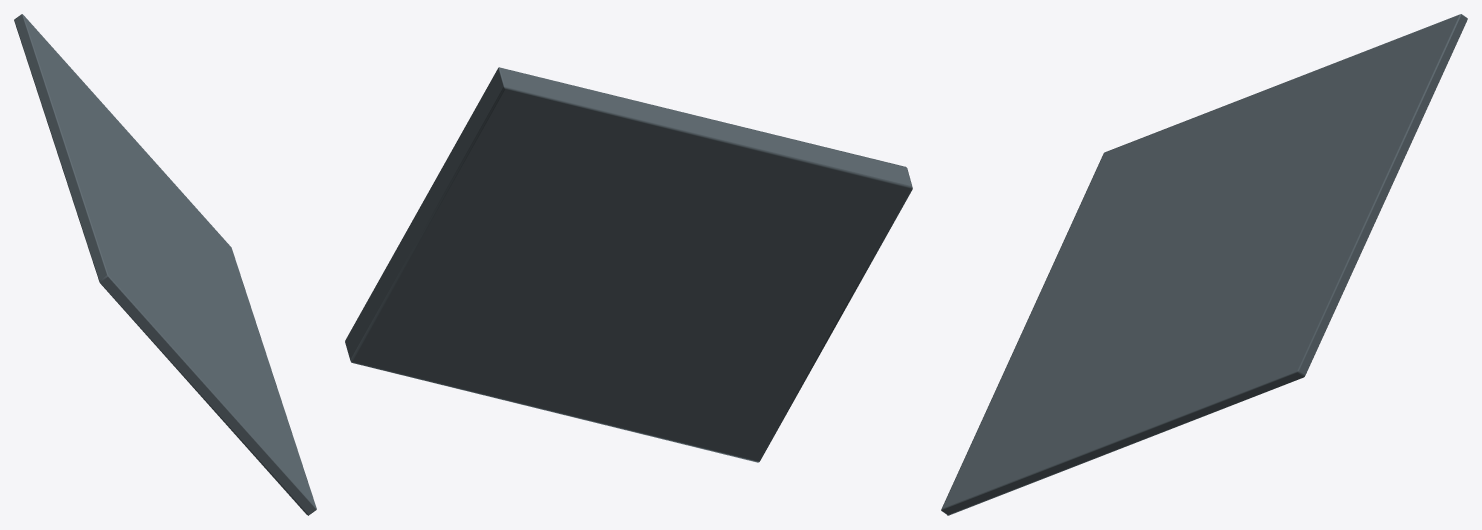
3 renders of one model, left to right at view 1: azimuth 30°, elevation 25°; view 2: azimuth 150°, elevation 25°; view 3: azimuth 270°, elevation 25°, orthographic. The views are drawn at different scales.
Parts seen in each view (by area): view 1: Cube.009; view 2: Cube.009; view 3: Cube.009.
Boxes of the visible parts, <box> form: Cube.009: <box>14,14,316,515</box>; Cube.009: <box>345,67,912,462</box>; Cube.009: <box>941,14,1467,515</box>.
Size of the model in its own units: 1.71 by 2.9 by 3.05.
1 material, 1 textured.
